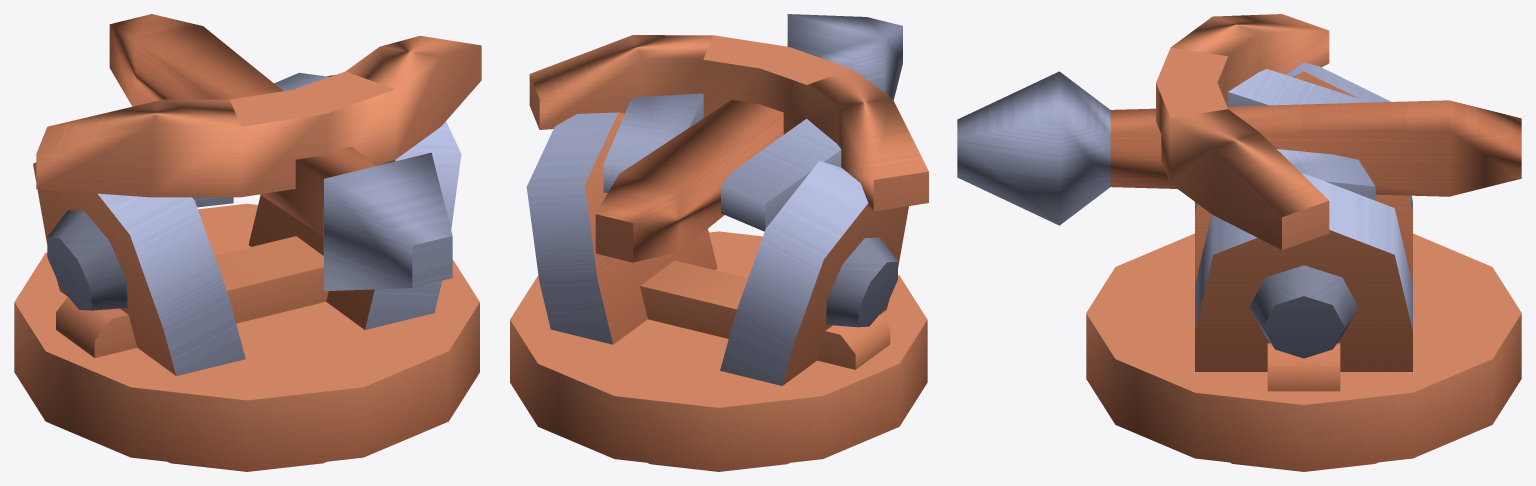
Rendered from weapon-ballista.glb.
3 views of the same model, side by side, from view 1: azimuth 30°, elevation 25°; view 2: azimuth 150°, elevation 25°; view 3: azimuth 270°, elevation 25° (orthographic). The views are drawn at different scales.
Visible parts, largest first — view 1: weapon-ballista, arrow; view 2: weapon-ballista, arrow; view 3: weapon-ballista, arrow.
Boxes of the visible parts, x1=… form: weapon-ballista: x1=14, y1=75, x2=479, y2=471; arrow: x1=36, y1=14, x2=481, y2=291; weapon-ballista: x1=510, y1=112, x2=927, y2=471; arrow: x1=529, y1=14, x2=928, y2=262; weapon-ballista: x1=1086, y1=62, x2=1521, y2=471; arrow: x1=957, y1=14, x2=1521, y2=249.
Size of the model in its own units: 0.6627 by 0.5 by 0.7776.
Materials: 1 (1 with a texture image).
